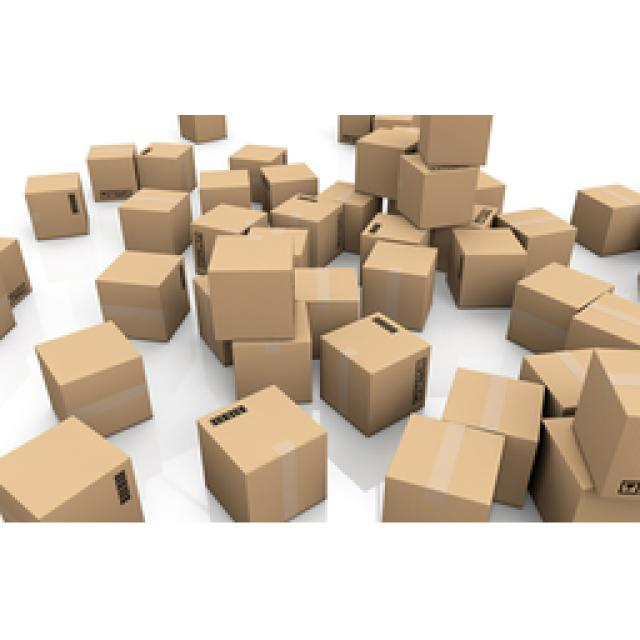cardboard: (0, 115, 638, 520), (25, 172, 88, 238), (0, 238, 28, 335)
